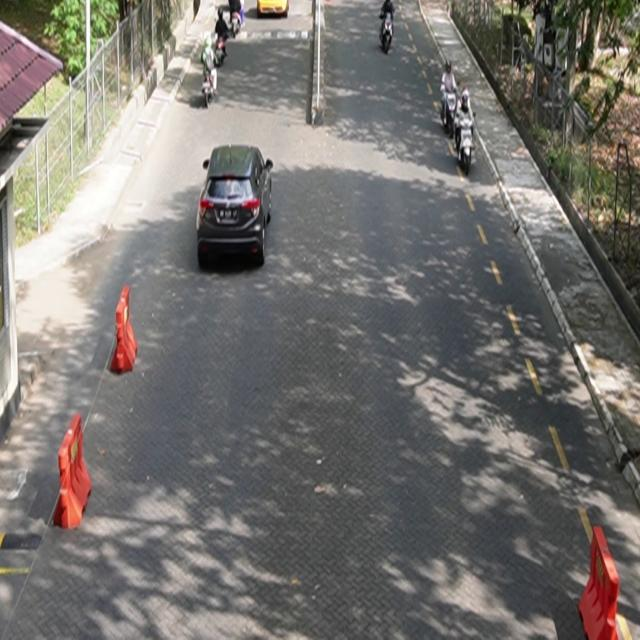car: (197, 144, 274, 269)
